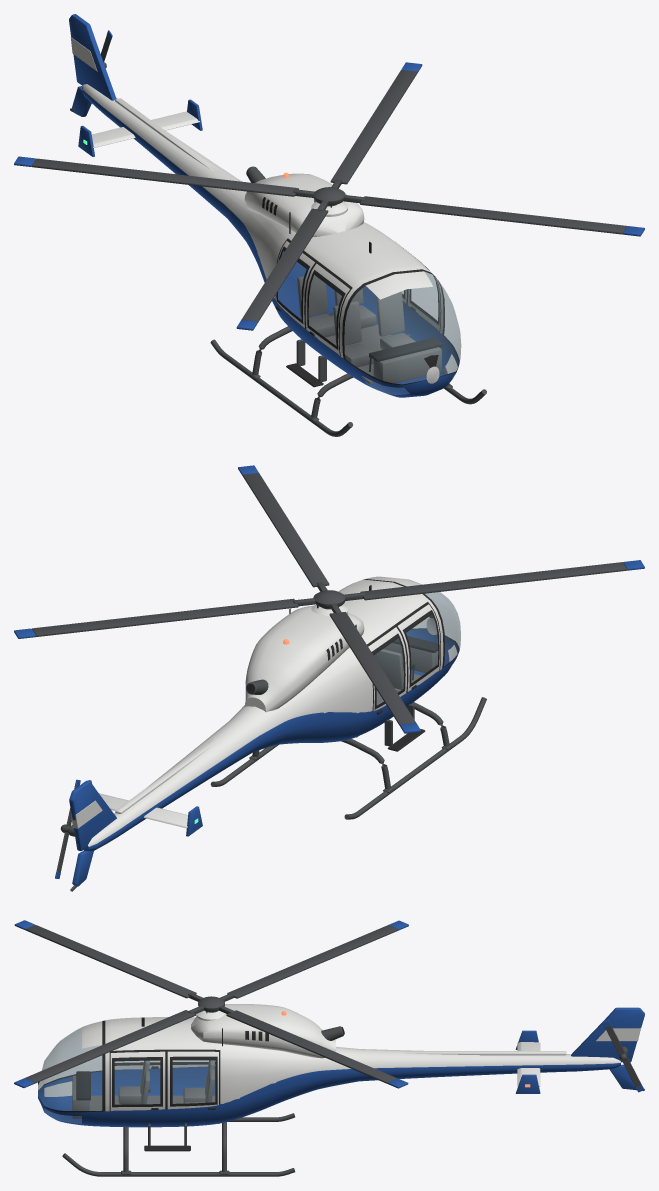
The model's file is Helicopter.fbx.
The picture shows the model from 3 angles, top to bottom: view 1: azimuth 30°, elevation 25°; view 2: azimuth 150°, elevation 25°; view 3: azimuth 270°, elevation 25°; orthographic projection. The views are drawn at different scales.
Visible parts, largest first — view 1: Helicopter_Mesh; view 2: Helicopter_Mesh; view 3: Helicopter_Mesh.
Boxes of the visible parts, x1=… form: Helicopter_Mesh: x1=14, y1=14, x2=644, y2=436; Helicopter_Mesh: x1=14, y1=465, x2=644, y2=891; Helicopter_Mesh: x1=14, y1=920, x2=644, y2=1176.
Size of the model in its own units: 7.63 by 3.2 by 12.18.
